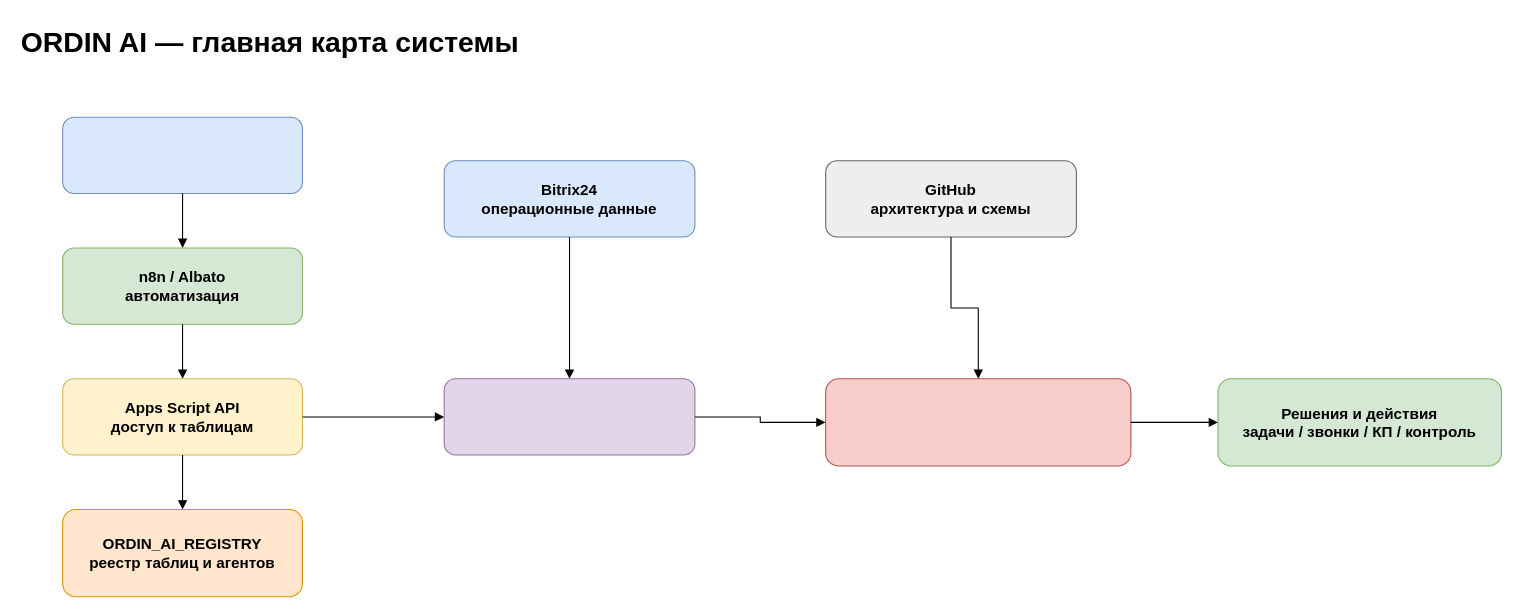
Image size: 1521x616. Some labels were removed from this diagram. Each missing label, with the box of its shape:
AI-роли ORDIN финансы / продажи / проекты / юрист: (825, 378, 1131, 466)
ChatGPT AI-координатор: (62, 116, 302, 193)
Google Sheets аналитический слой: (443, 378, 695, 455)
